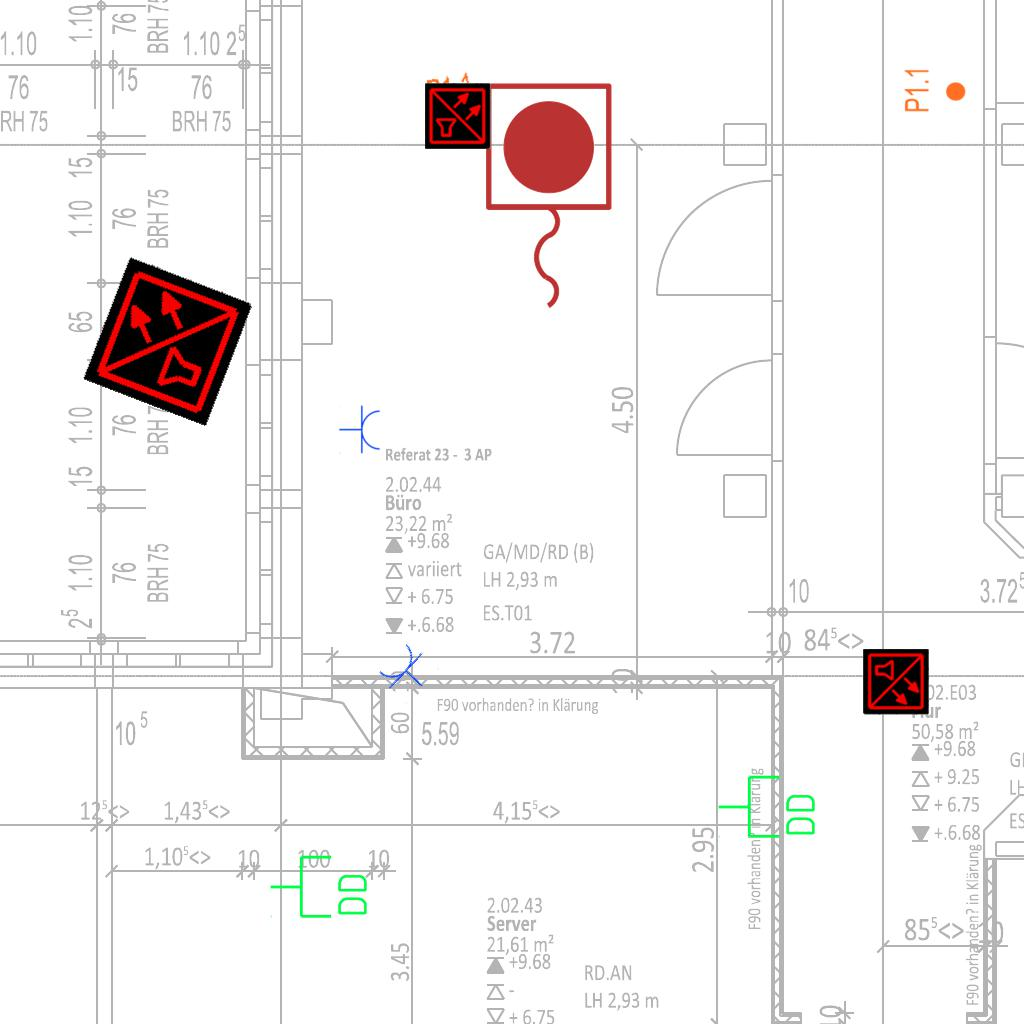Datenanschluss_zweifach: (268, 853, 371, 922), (716, 773, 819, 842)
Downlight_LED_Einbauleuchten_Flur: (424, 70, 482, 142), (903, 67, 967, 113)
OKW_Multisensormelder_(Kombination_optischer_Rauch-Kahlenmonoxid_Waerme-Melder): (82, 255, 254, 427), (863, 649, 929, 715), (425, 83, 491, 149)
Schukosteckdose_einfach: (374, 638, 440, 705), (339, 405, 382, 455)
Zugtaster: (475, 75, 619, 319)
